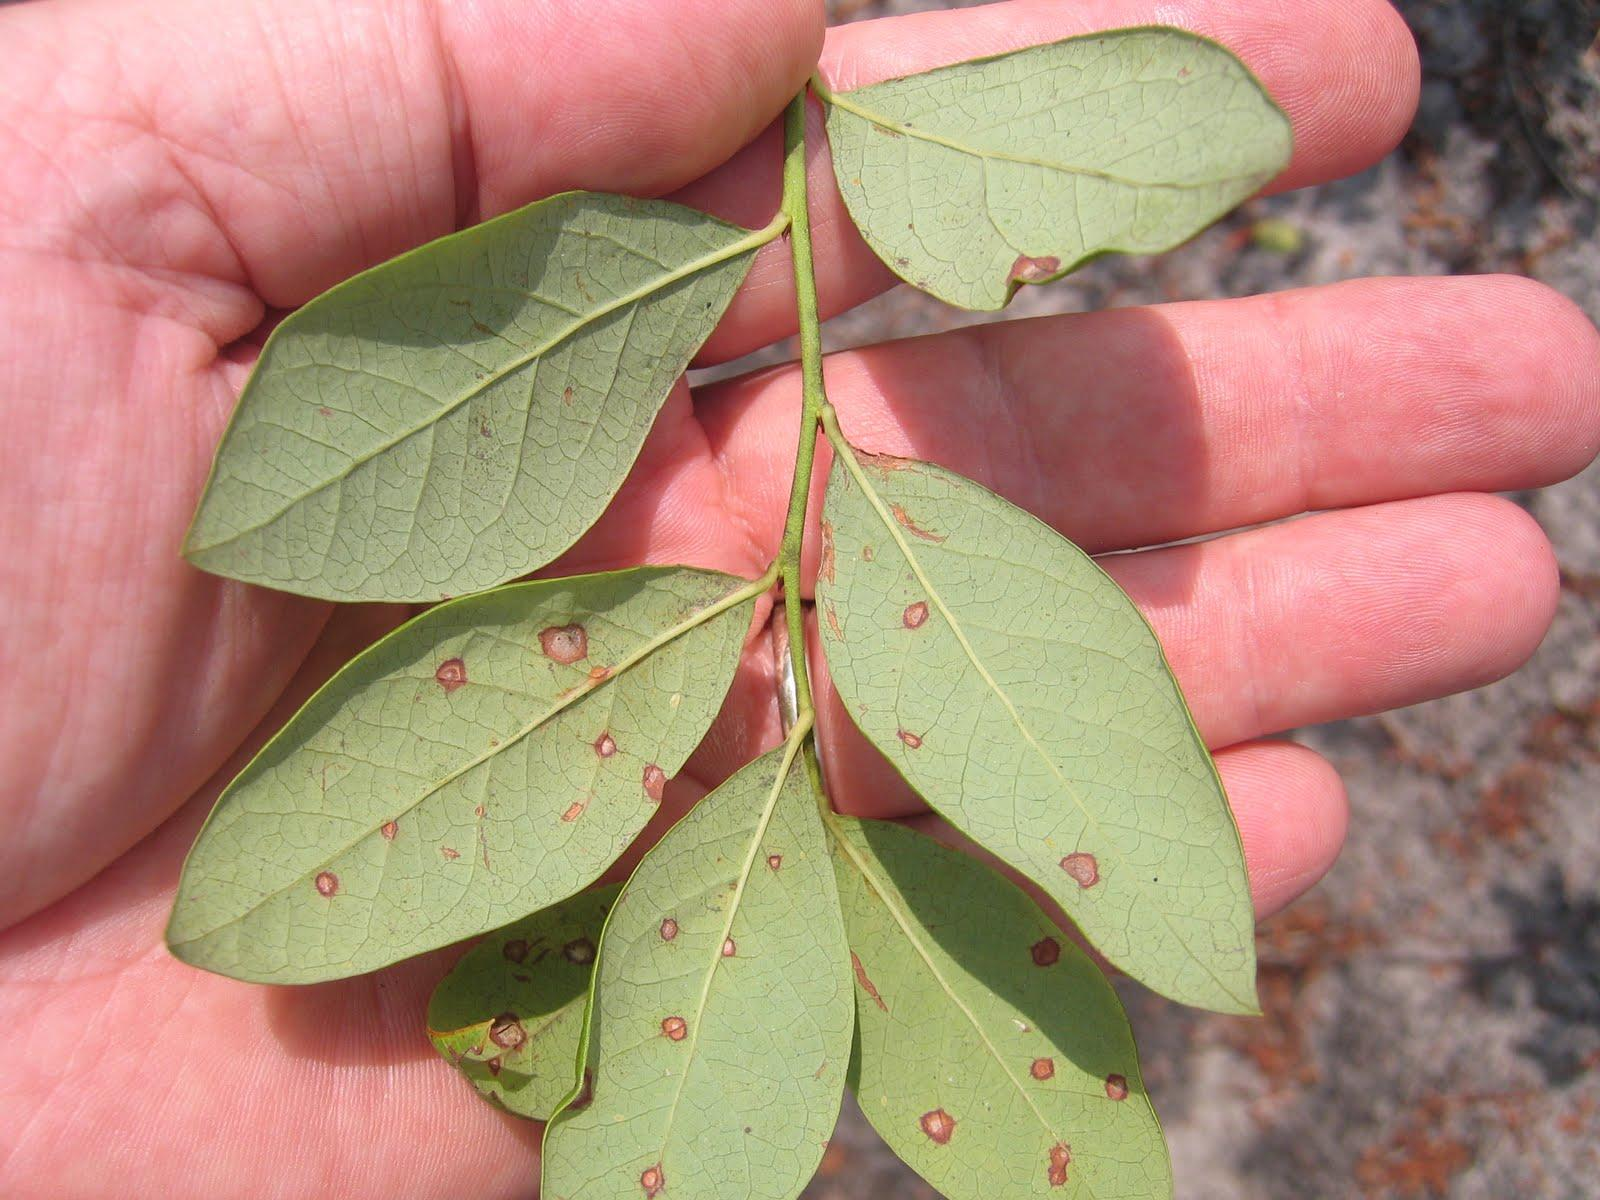Blueberry leaf: (147, 176, 800, 664), (813, 401, 1286, 1053), (117, 571, 808, 1006), (743, 803, 1199, 1200), (533, 721, 883, 1200), (813, 42, 1335, 324)
